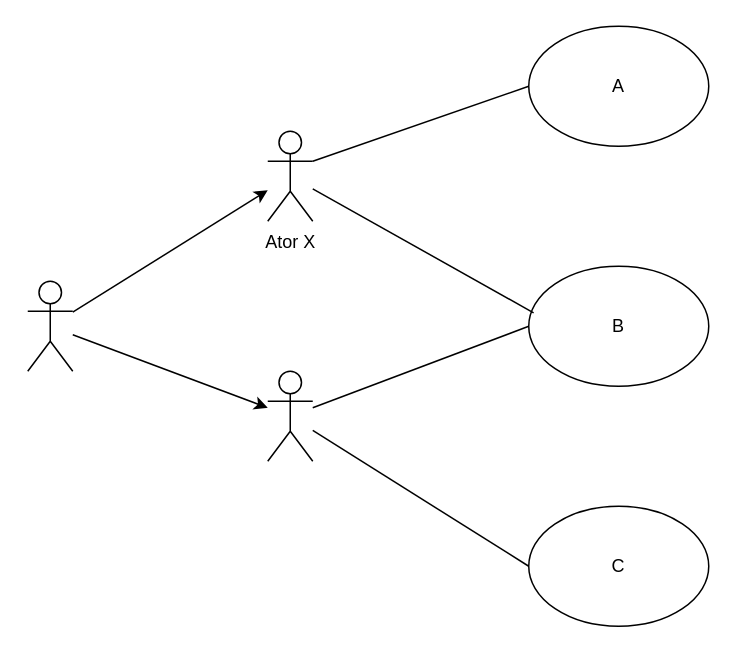
The diagram is 735 pixels wide and 653 high, and some of its shapes have lost their labels. Here are the shapes that lost their labels. From the top down, the centre of each, then its label:
At (x=49, y=325): "Ator Y".
At (x=289, y=415): "Ator Z".
